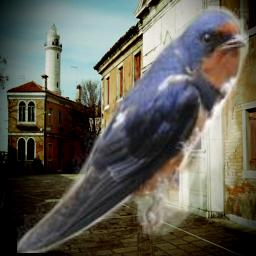Swallow: (17, 6, 249, 253)
